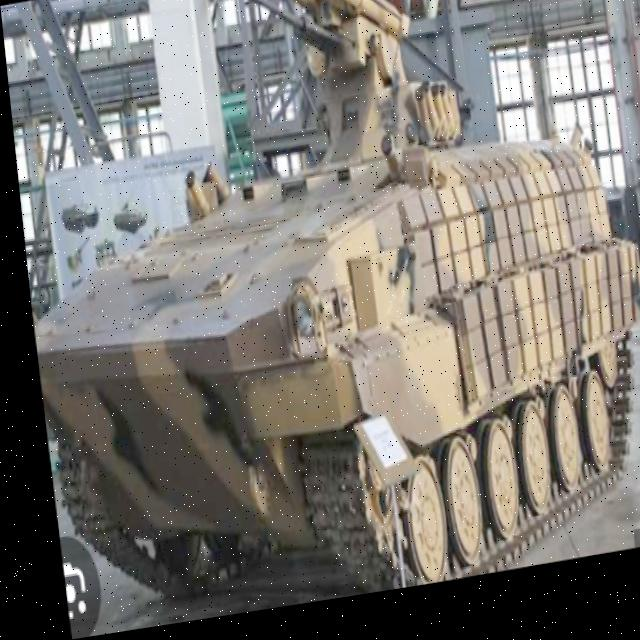MIL_APC: (15, 110, 640, 637)
